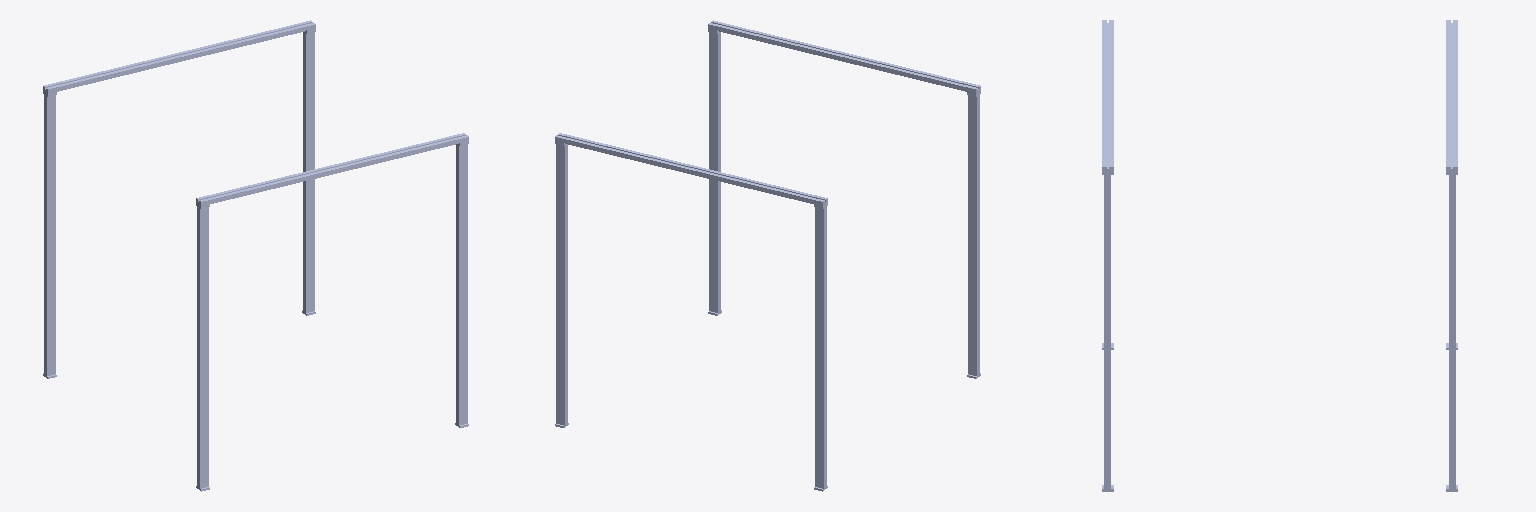
robot.urdf — solidworks2ros_try11:
<?xml version="1.0" encoding="utf-8"?>
<!-- This URDF was automatically created by SolidWorks to URDF Exporter! Originally created by [author] ([email redacted]) 
     Commit Version: 1.6.0-4-g7f85cfe  Build Version: 1.6.7995.38578
     For more information, please see http://wiki.ros.org/sw_urdf_exporter -->
<robot name="solidworks2ros_try11">

  <link name="dummy"> 
  </link>

  <joint name="dummy_joint" type="fixed">
     <parent link="dummy"/>
     <child link="base_link"/>
  </joint>
  
  <link name="base_link">
    <inertial>
      <origin
        xyz="-1.8415 1.8923 1.9388"
        rpy="0 0 0" />
      <mass
        value="151.42" />
      <inertia
        ixx="193"
        ixy="-1.8072E-17"
        ixz="4.7507E-16"
        iyy="193.13"
        iyz="1.9943E-14"
        izz="0.28101" />
    </inertial>
    <visual>
      <origin
        xyz="0 0 0"
        rpy="0 0 0" />
      <geometry>
        <mesh
          filename="package://solidworks2ros_try11/meshes/base_link.STL" />
      </geometry>
      <material
        name="">
        <color
          rgba="0.79216 0.81961 0.93333 1" />
      </material>
    </visual>
    <collision>
      <origin
        xyz="0 0 0"
        rpy="0 0 0" />
      <geometry>
        <mesh
          filename="package://solidworks2ros_try11/meshes/base_link.STL" />
      </geometry>
    </collision>
  </link>

  <link name="fixed_link1">
    <inertial>
      <origin
        xyz="-1.905 1.8923 -0.010583"
        rpy="0 0 0" />
      <mass
        value="58.993" />
      <inertia
        ixx="0.098058"
        ixy="1.1405E-16"
        ixz="1.5303E-16"
        iyy="71.388"
        iyz="3.1088E-17"
        izz="71.436" />
    </inertial>
    <visual>
      <origin
        xyz="0 0 0"
        rpy="0 0 0" />
      <geometry>
        <mesh
          filename="package://solidworks2ros_try11/meshes/fixed_link1.STL" />
      </geometry>
      <material
        name="">
        <color
          rgba="0.79216 0.81961 0.93333 1" />
      </material>
    </visual>
    <collision>
      <origin
        xyz="0 0 0"
        rpy="0 0 0" />
      <geometry>
        <mesh
          filename="package://solidworks2ros_try11/meshes/fixed_link1.STL" />
      </geometry>
    </collision>
  </link>

  <joint name="fixed_joint1"
    type="fixed">
    <origin
      xyz="0.0635 0 3.9116"
      rpy="0 0 0" />
    <parent
      link="base_link" />
    <child
      link="fixed_link1" />
    <axis
      xyz="0 0 0" />
  </joint>

  <link name="link_1">
    <inertial>
      <origin
        xyz="-0.0508 1.8923 0.075863"
        rpy="0 0 0" />
      <mass
        value="24.712" />
      <inertia
        ixx="30.235"
        ixy="2.6524E-17"
        ixz="-4.5627E-19"
        iyy="0.048485"
        iyz="8.1321E-15"
        izz="30.221" />
    </inertial>
    <visual>
      <origin
        xyz="0 0 0"
        rpy="0 0 0" />
      <geometry>
        <mesh
          filename="package://solidworks2ros_try11/meshes/link_1.STL" />
      </geometry>
      <material
        name="">
        <color
          rgba="0.79216 0.81961 0.93333 1" />
      </material>
    </visual>
    <collision>
      <origin
        xyz="0 0 0"
        rpy="0 0 0" />
      <geometry>
        <mesh
          filename="package://solidworks2ros_try11/meshes/link_1.STL" />
      </geometry>
    </collision>
  </link>

  <joint name="joint_1"
    type="prismatic">
    <origin
      xyz="0 0 0"
      rpy="0 0 0" />
    <parent
      link="fixed_link1" />
    <child
      link="link_1" />
    <axis
      xyz="-1 0 0" />
    <limit
      lower="0"
      upper="3.5"
      effort="100"
      velocity="0.5" />
  </joint>

  <!-- Position Contoller -->
<transmission name ="trans_1">
    <type>transmission_interface/SimpleTransmission</type>
    <joint name="joint_1">
        <hardwareInterface>hardware_interface/PositionJointInterface</hardwareInterface>
    </joint>
    <actuator name="motor_1">
        <hardwareInterface>hardware_interface/PositionJointInterface</hardwareInterface>
        <mechanicalReduction>1</mechanicalReduction>
    </actuator>
</transmission>

<!-- Gazebo controller -->
<gazebo>
    <plugin name="control" filename="libgazebo_ros_control.so"/>
</gazebo>

<!-- Gazebo visual interface for the links-->
<gazebo reference="base_link">
    <material>Gazebo/Gray</material>
</gazebo>

<gazebo reference="fixed_link1">
    <material>Gazebo/Green</material>
</gazebo>

<gazebo reference="link_1">
    <material>Gazebo/Orange</material>
</gazebo>

</robot>

--- What the picture shows (computed from the rendered views, not written in the file) ---
The picture shows the robot from 3 angles, left to right: view 1: azimuth 30°, elevation 25°; view 2: azimuth 150°, elevation 25°; view 3: azimuth 270°, elevation 25°; orthographic projection.
Model solidworks2ros_try11 with 4 links and 3 joints (1 prismatic, 2 fixed), rooted at dummy, posed all joints at 0.
Links seen in each view (by area): view 1: base_link, fixed_link1; view 2: base_link, fixed_link1; view 3: base_link, fixed_link1.
Boxes of the visible links, x1,y1,x2,y2 form: base_link: (43,28,468,491); fixed_link1: (43,20,468,205); base_link: (555,28,980,491); fixed_link1: (555,20,980,205); base_link: (1102,171,1457,491); fixed_link1: (1102,20,1457,172).
Bounding box of the posed robot: 3.81 × 3.91 × 3.94 m (x, y, z).
2 mesh visuals loaded from 3 distinct referenced files (2 binary STL); not drawn: 1 (reference not matched to a file when rendering).
